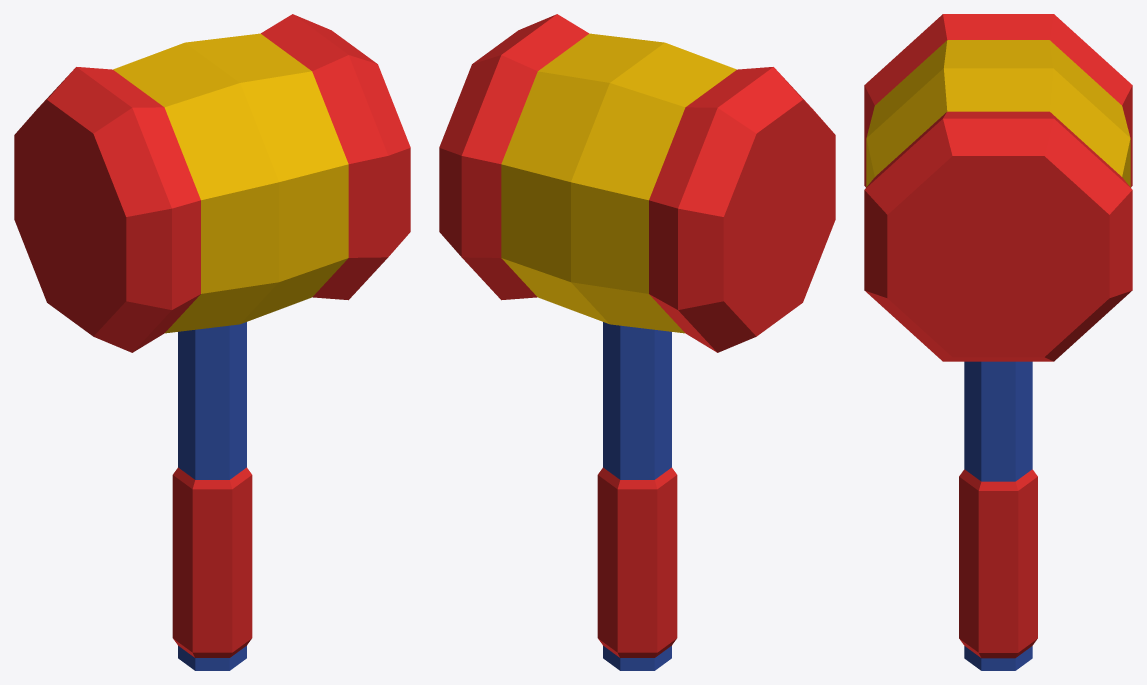
Rendered from Hammer.fbx.
3 views of the same model, side by side, from view 1: azimuth 30°, elevation 25°; view 2: azimuth 150°, elevation 25°; view 3: azimuth 270°, elevation 25° (orthographic).
Visible parts, largest first — view 1: Hammer; view 2: Hammer; view 3: Hammer.
Boxes of the visible parts, <box> form: Hammer: <box>14,14,410,670</box>; Hammer: <box>439,14,835,670</box>; Hammer: <box>864,14,1132,670</box>.
Size of the model in its own units: 30.2 by 60.58 by 24.86.
